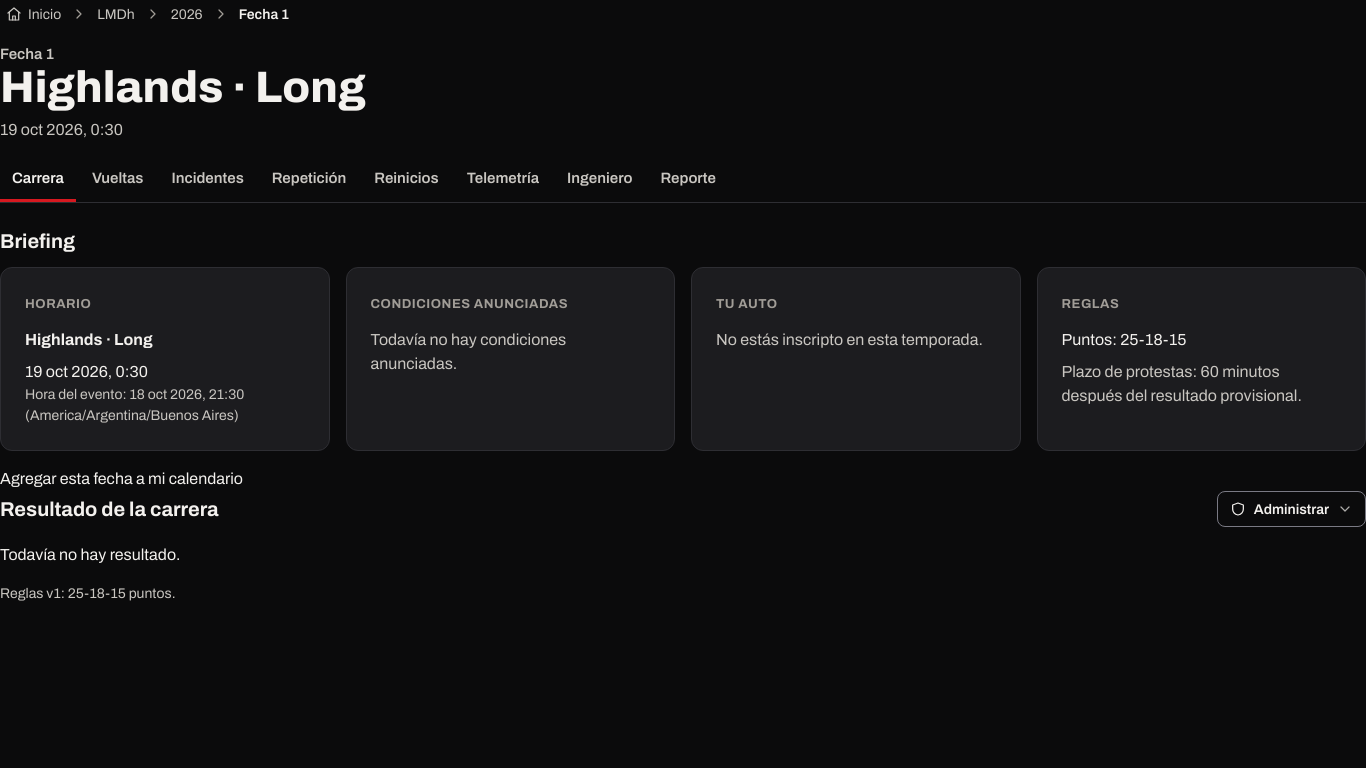
Scenario: RoundPage › shows the rule that a result breaks
The image size is (1366, 768).
Click the button "Administrar" at (1291, 509), box [1217,491,1365,527]
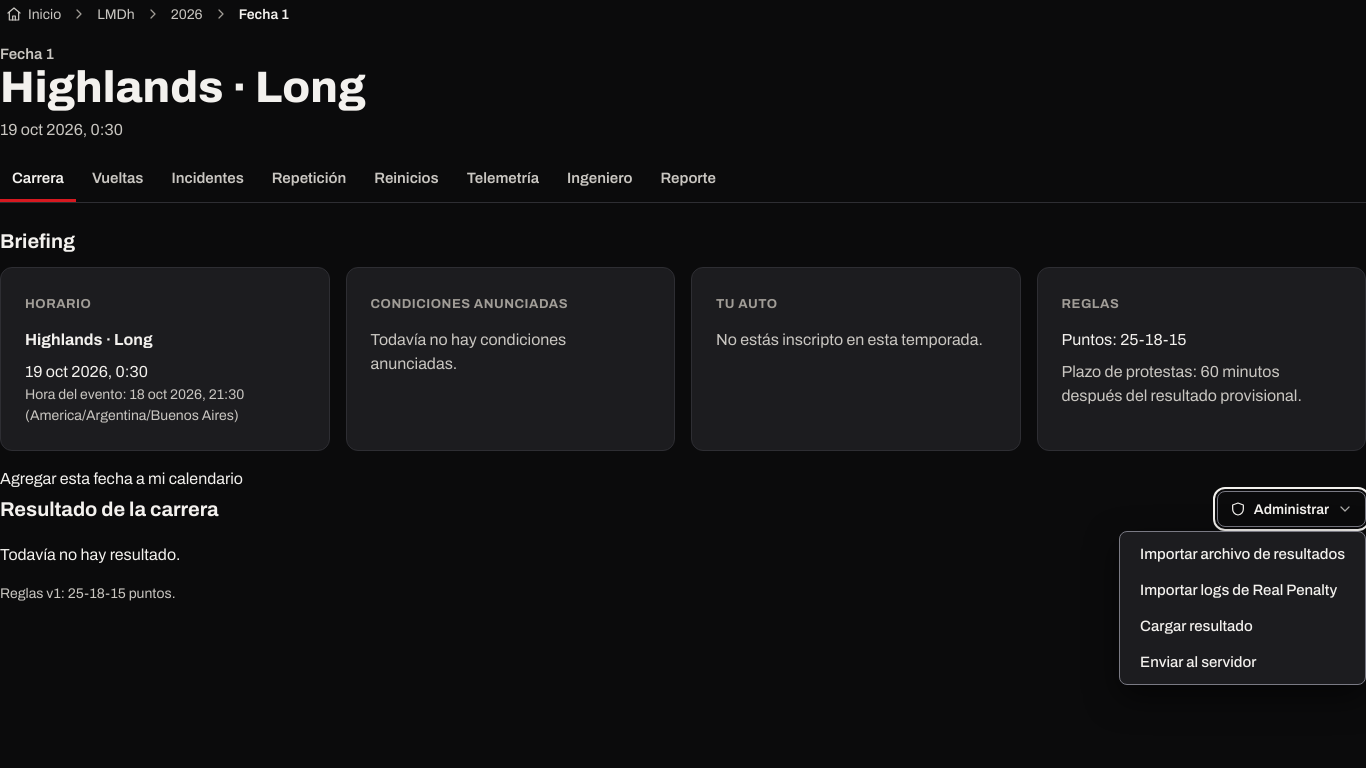
Click the button "Cargar resultado" at (1243, 626), box [1124,608,1361,644]
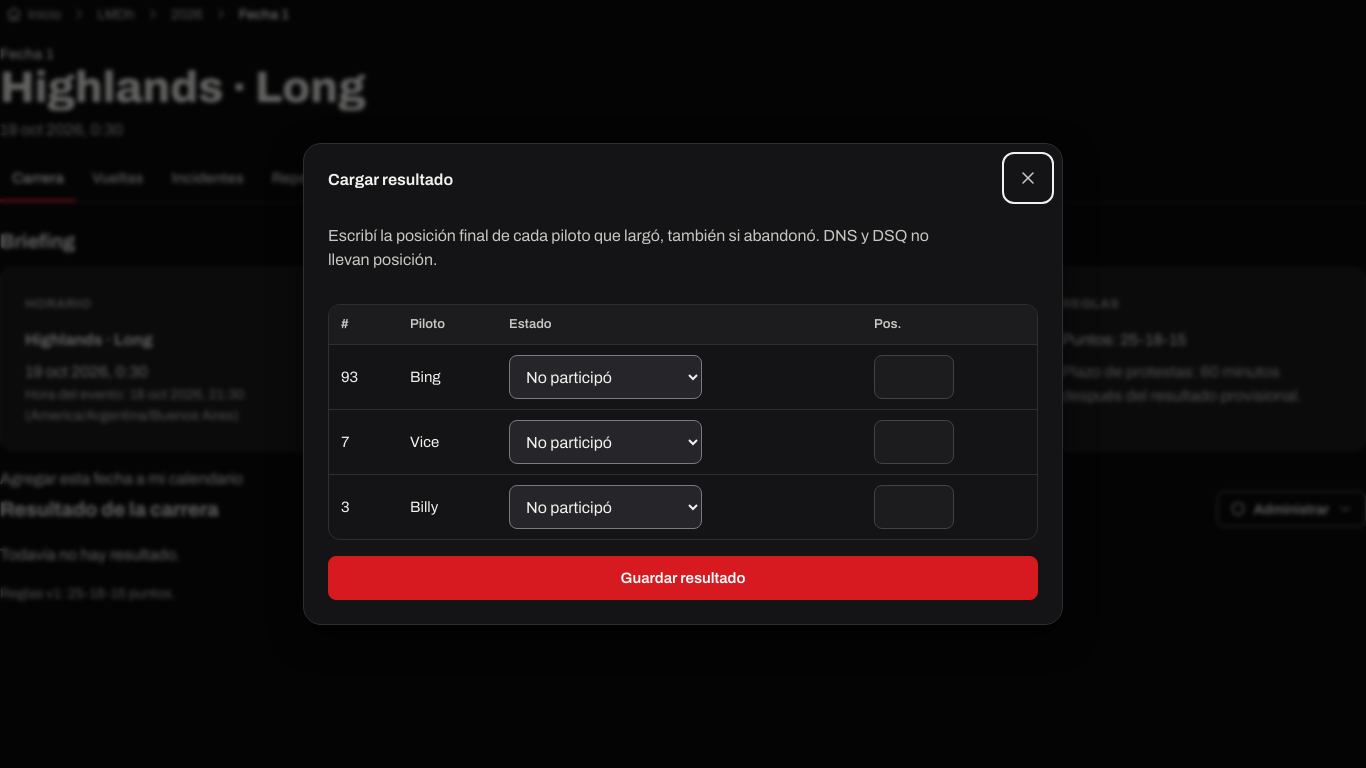
Select "Terminó" in the dropdown named "Estado Bing" at (606, 377), box [509,355,702,399]
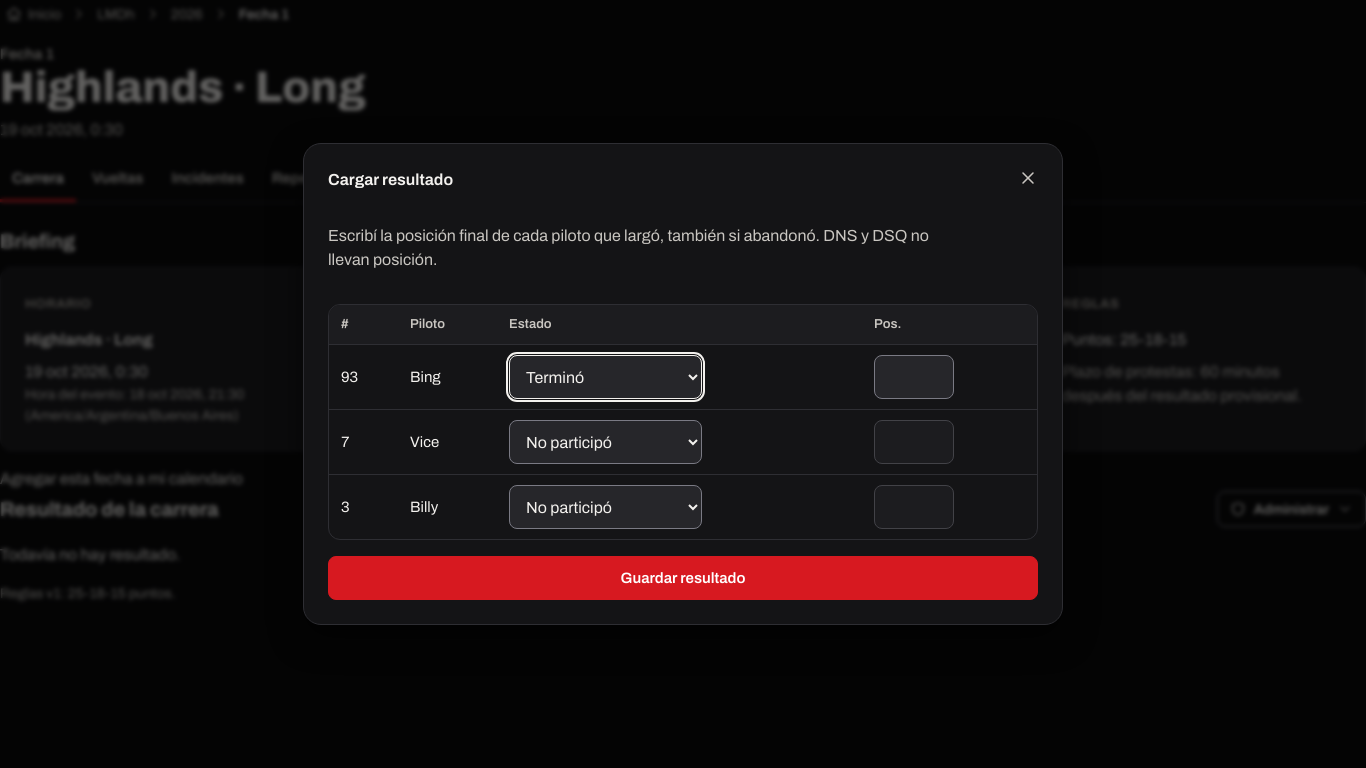
Type "3" into the number field named "Pos. Bing" at (914, 377), box [874,355,954,399]
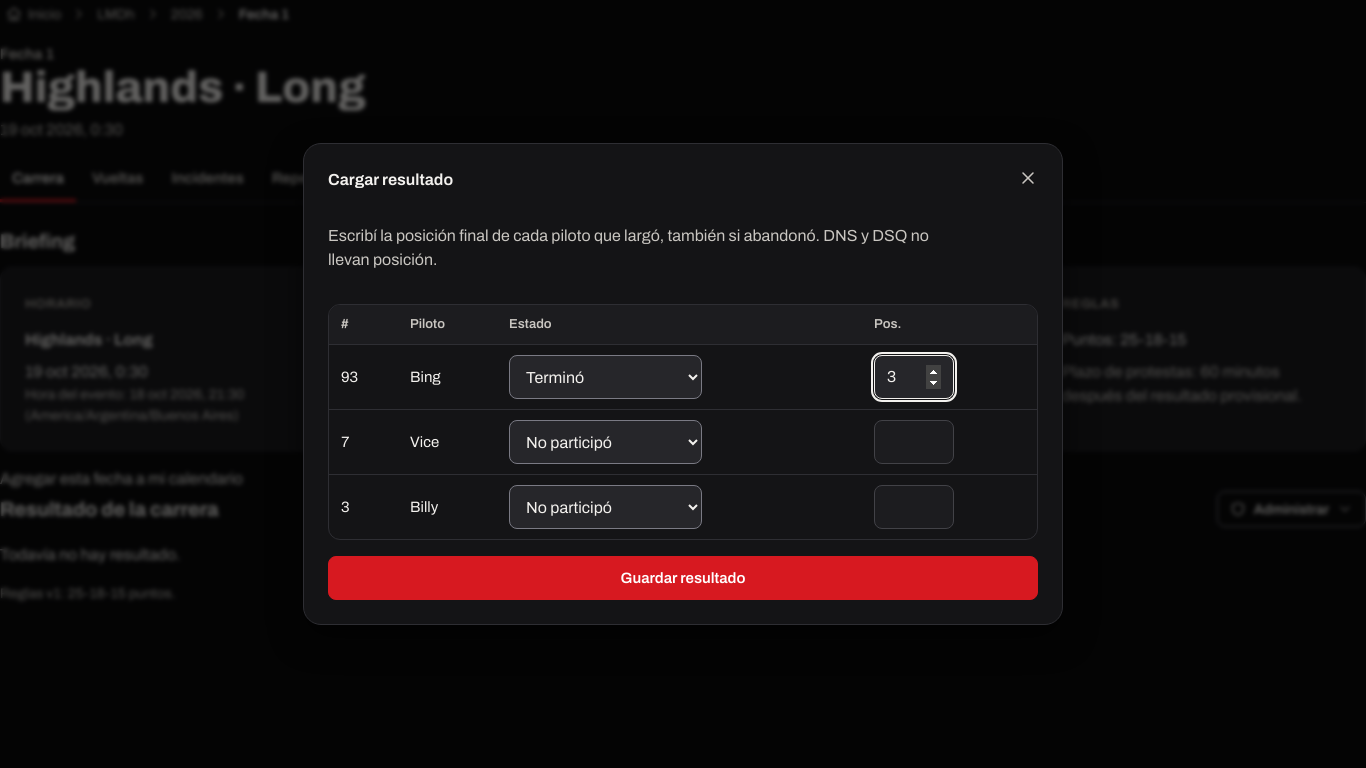
Click the button "Guardar resultado" at (683, 578), box [328,556,1038,600]
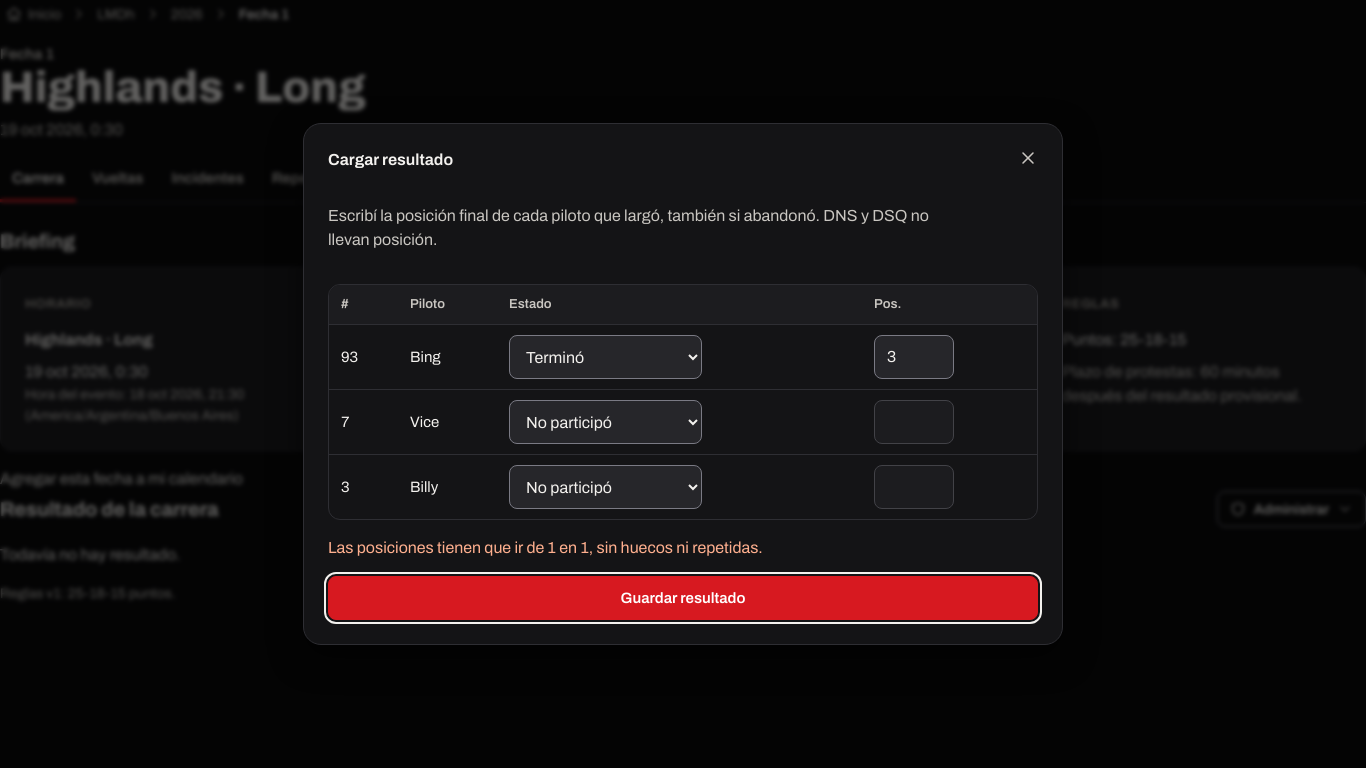
Check: the message shows "sin huecos ni repetidas", box [328,539,763,556]
